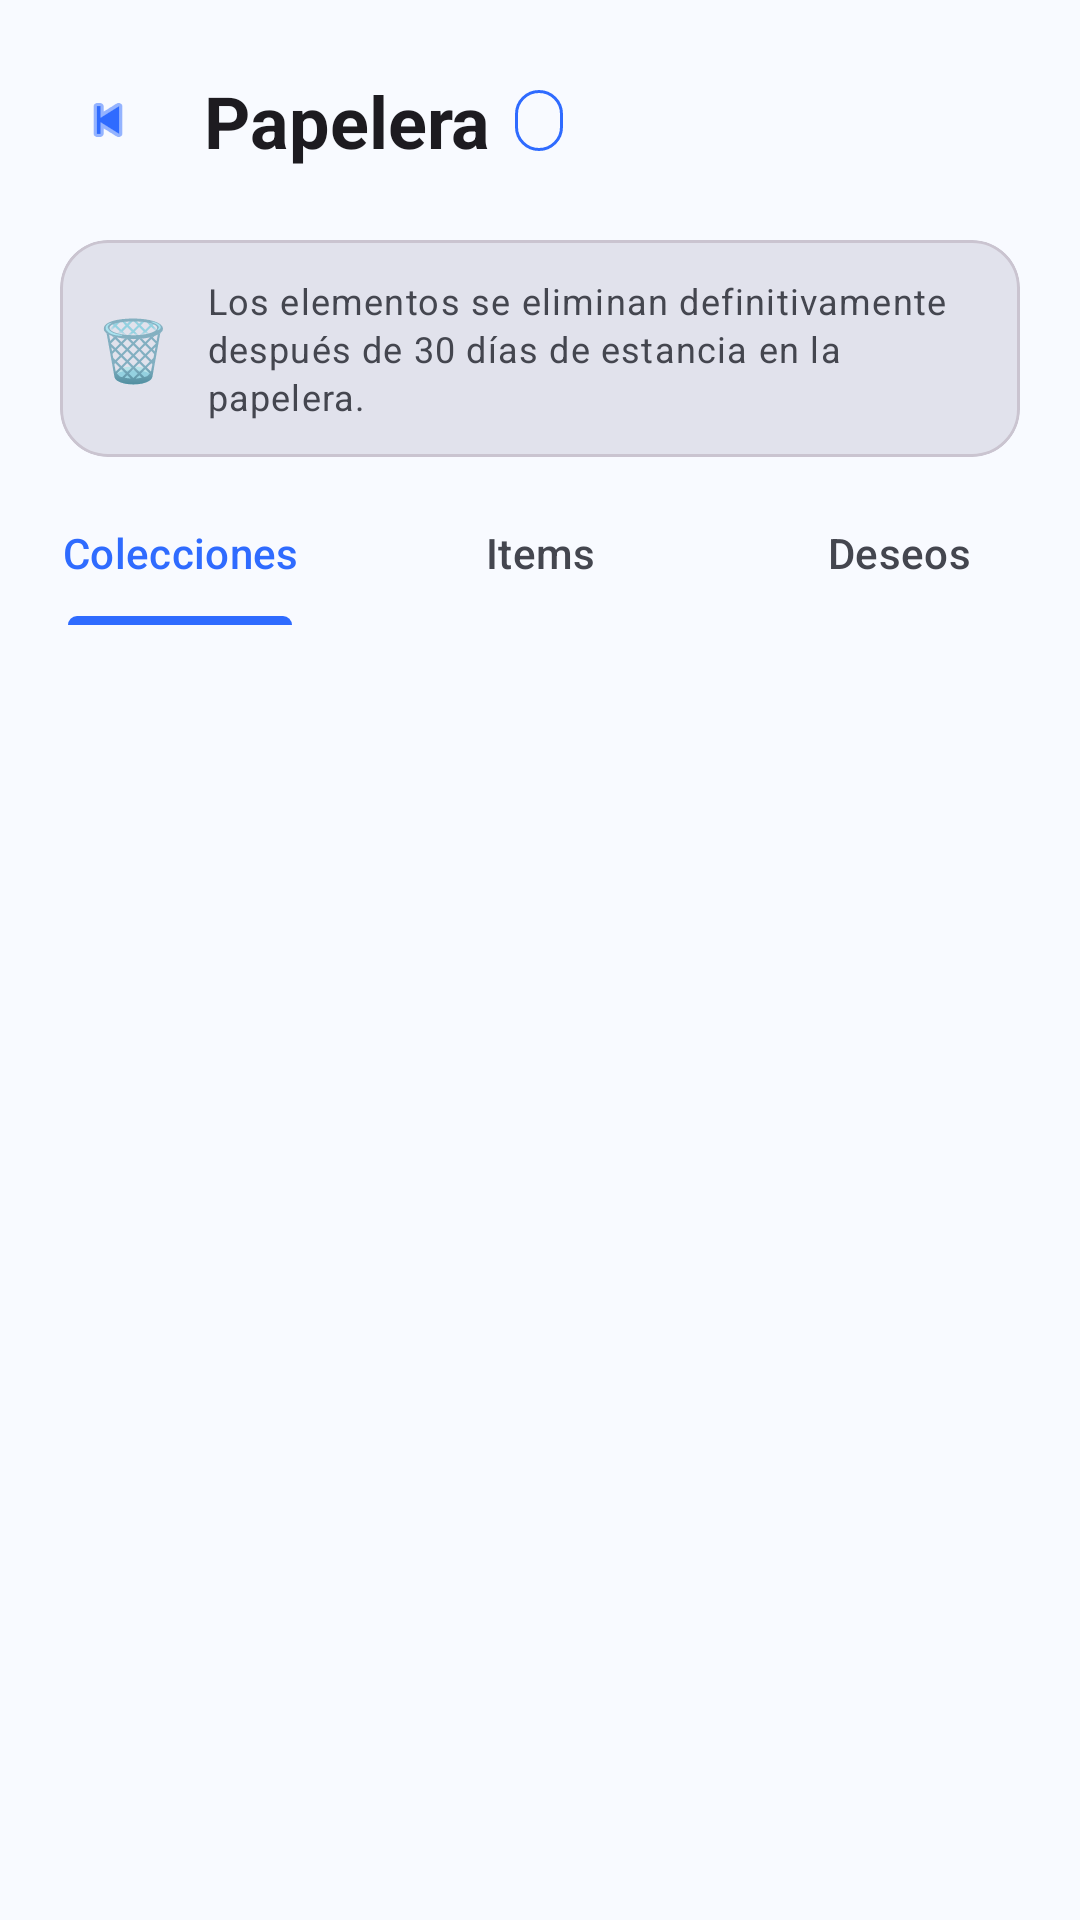

Named icons in this screenshot (1080w x 1920h) and their centers, (x=x, y=y):
previous: (x=108, y=120)
